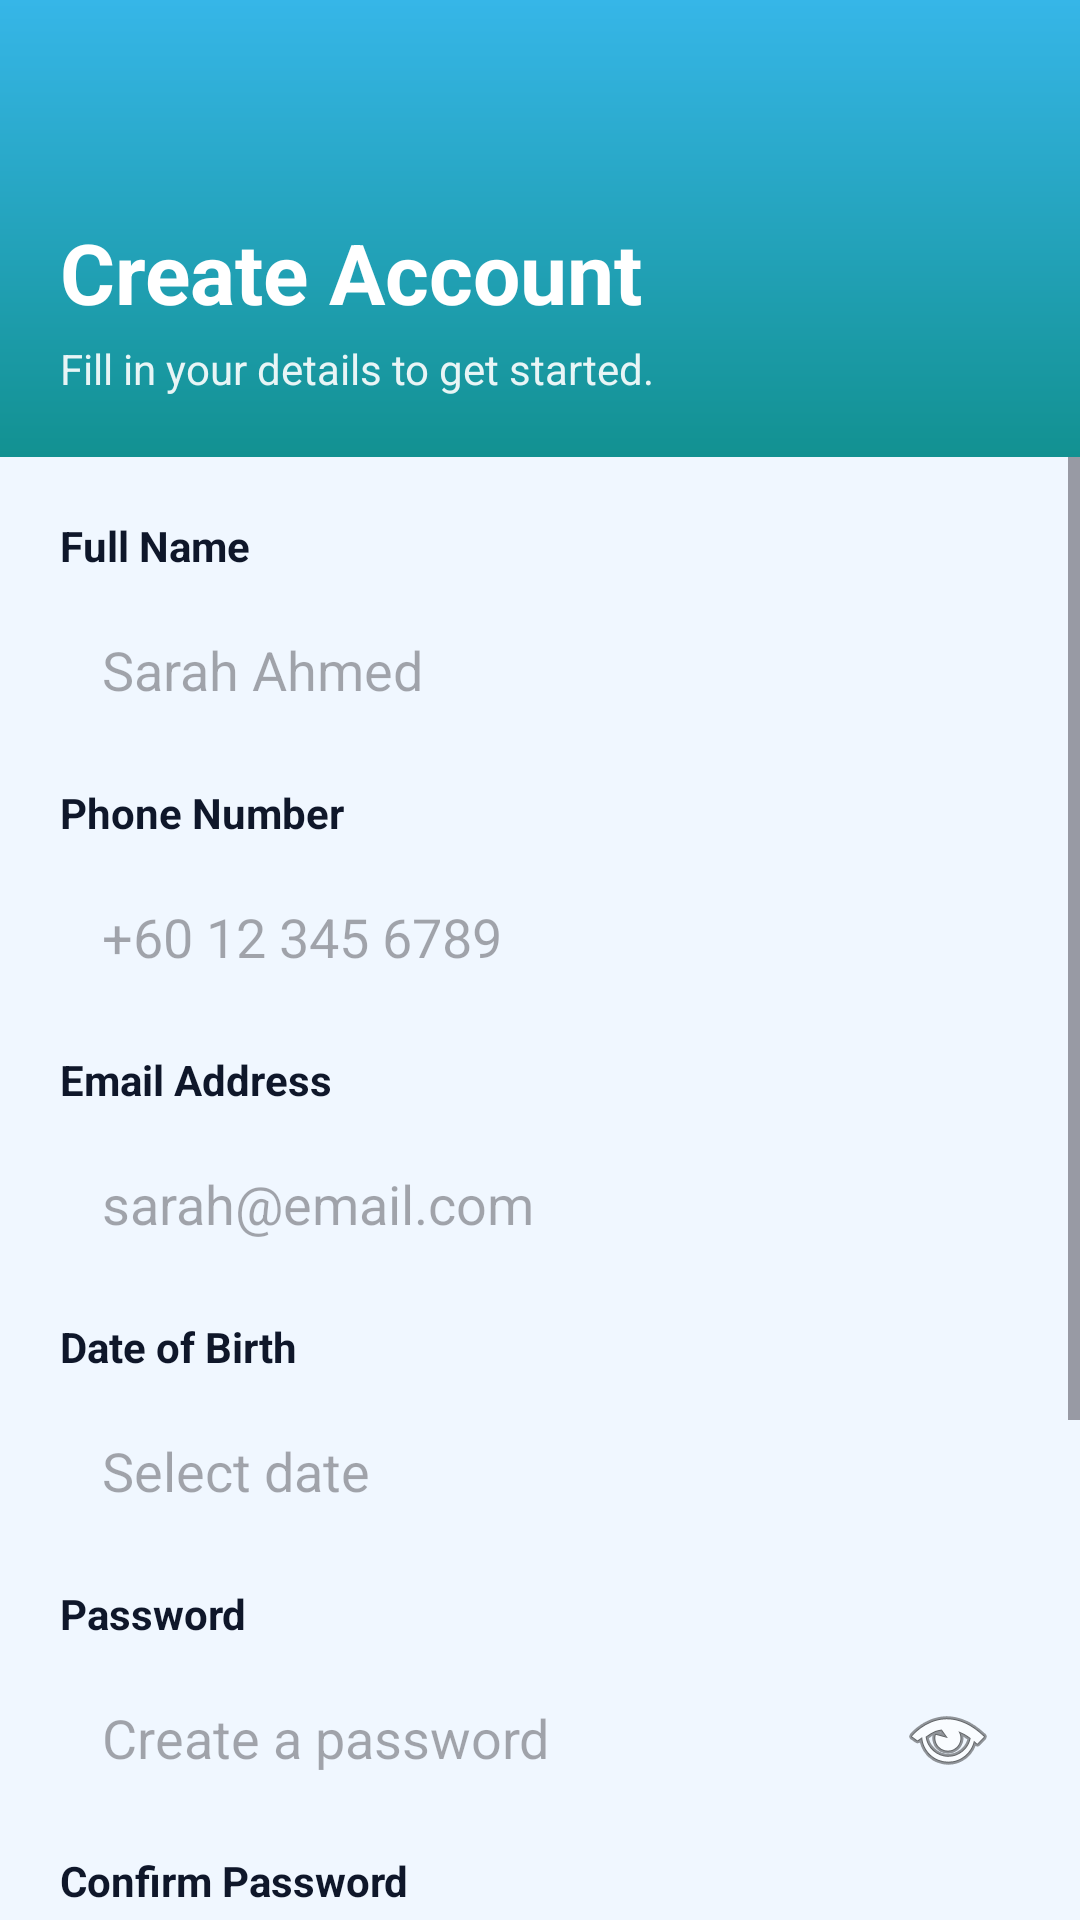

Point at icon controls on the screen. Image size 1080w x 1920h, points as [x,y].
Show password: [948,1740]
